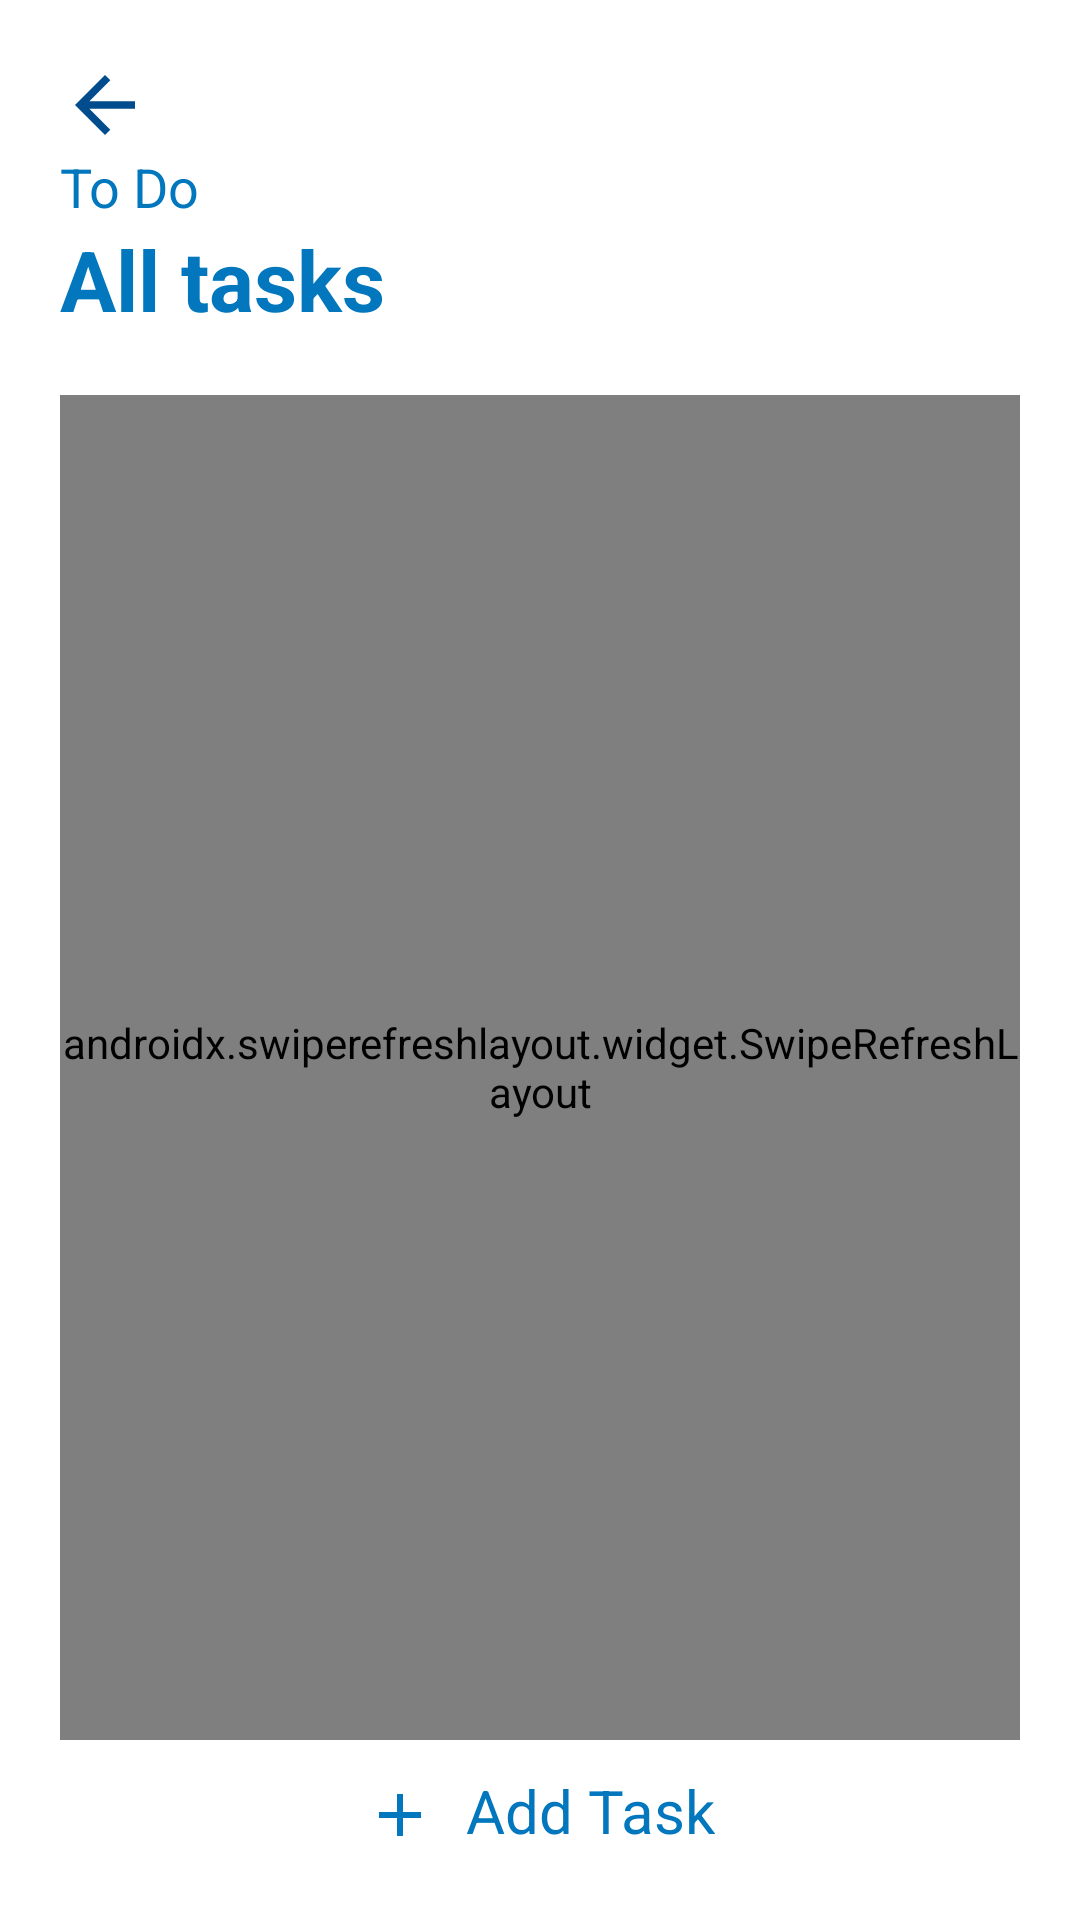

Screen size 1080×1920. Icon name, then its center in pixels as (x,y):
arrow back: (105,105)
